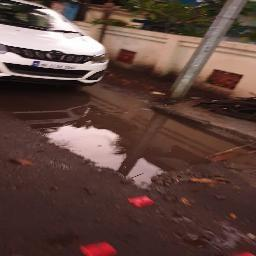water accumulation: (0, 81, 256, 188)
